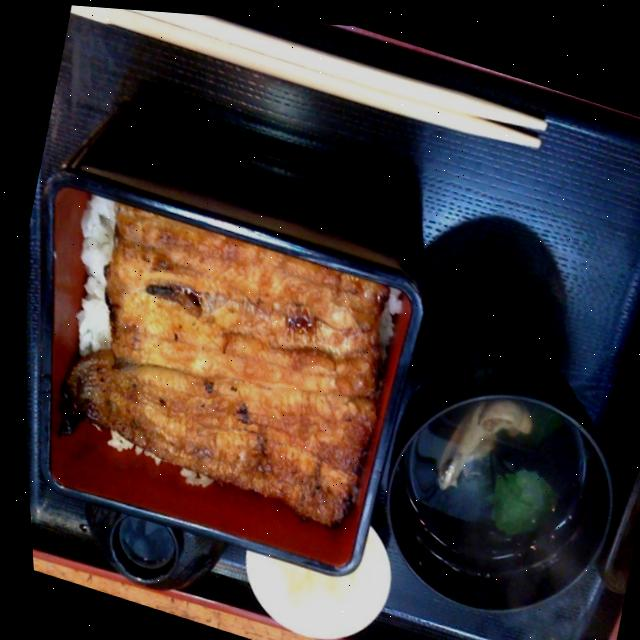汤锅炖物: (346, 315, 640, 640)
